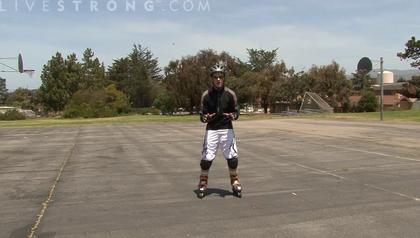stay: (351, 55, 374, 81)
walk: (196, 70, 239, 188)
